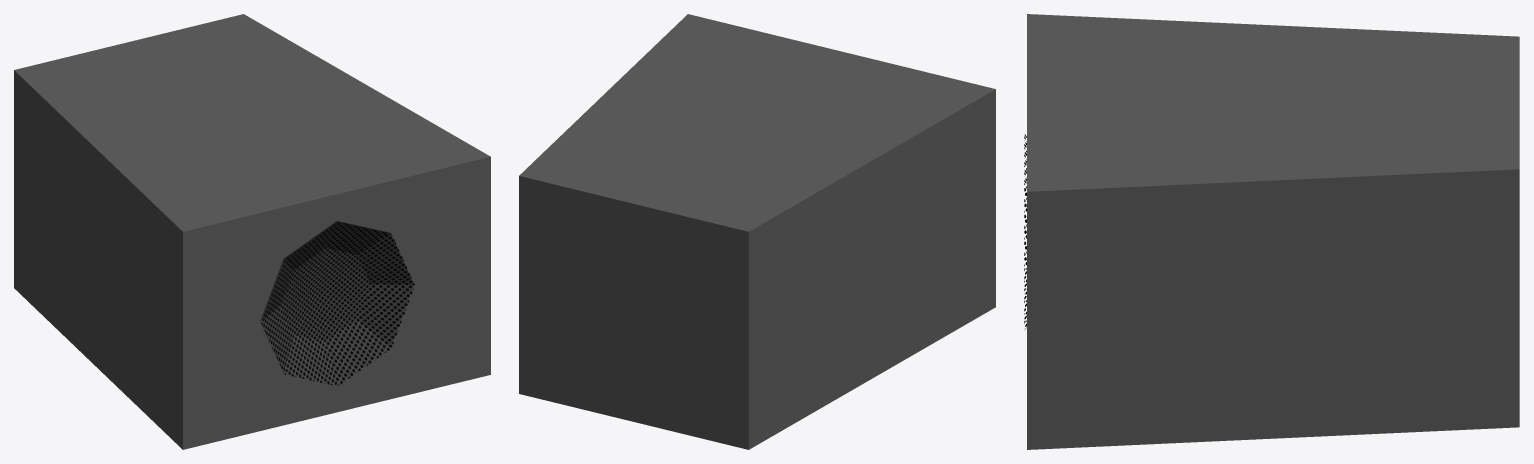
File: Itr_Obj_Speaker3_Top_03.FBX
3 renders of one model, left to right at view 1: azimuth 30°, elevation 25°; view 2: azimuth 150°, elevation 25°; view 3: azimuth 270°, elevation 25°, orthographic. The views are drawn at different scales.
Parts seen in each view (by area): view 1: Itr_Obj_Speaker3_Top_03; view 2: Itr_Obj_Speaker3_Top_03; view 3: Itr_Obj_Speaker3_Top_03.
Part boxes in pixels (box(x1,y1,x2,y2)): Itr_Obj_Speaker3_Top_03: box(14, 14, 490, 449); Itr_Obj_Speaker3_Top_03: box(519, 14, 995, 449); Itr_Obj_Speaker3_Top_03: box(1024, 14, 1519, 449).
Bounding box in the file's own units: 9.88 × 6.69 × 11.62.
